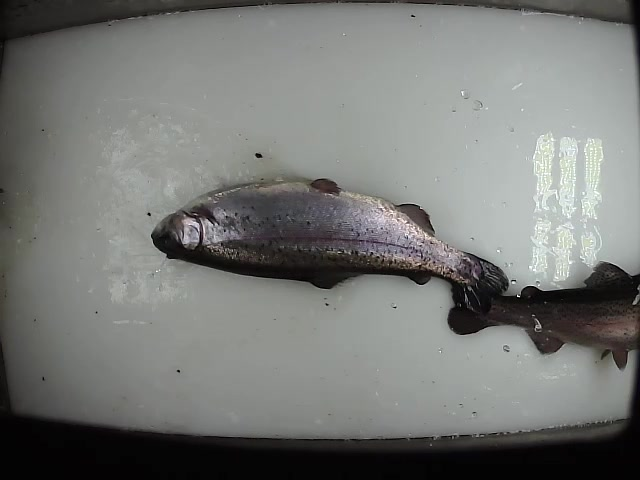fish: (150, 177, 510, 311), (445, 255, 640, 371)
